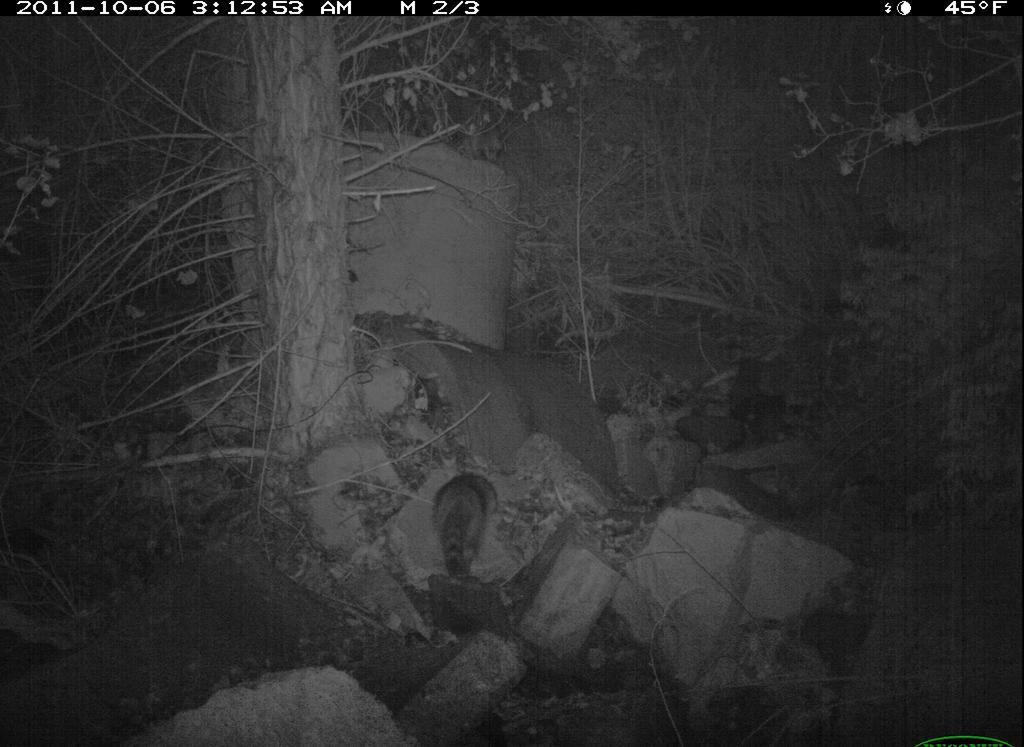raccoon: (417, 458, 516, 599)
